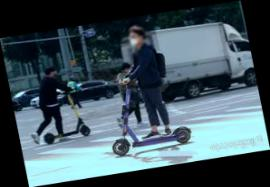nonhelmet: (89, 19, 196, 158), (18, 62, 93, 149)
